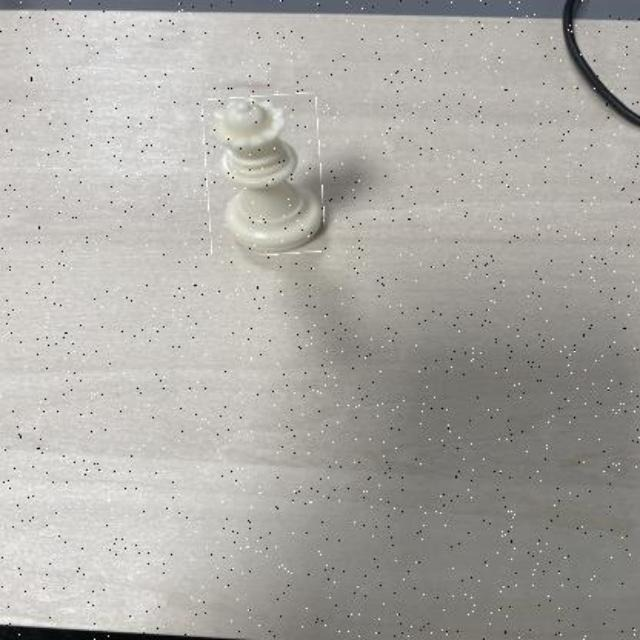white-queen: (206, 95, 324, 255)
